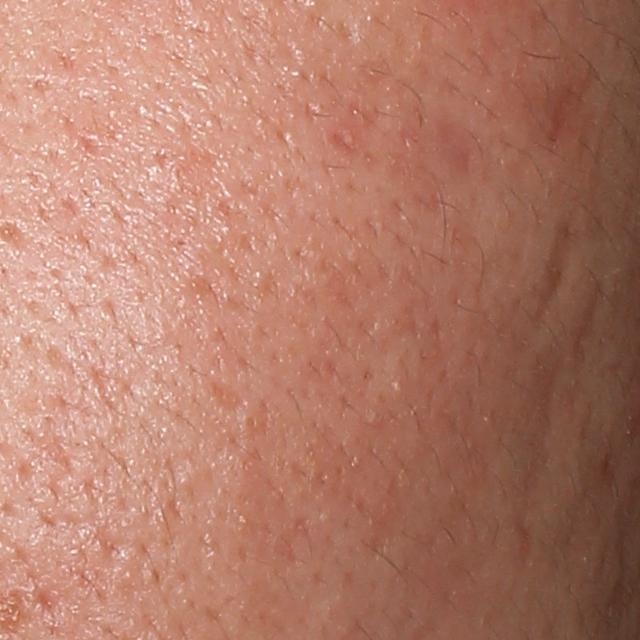atrophic_scar: (534, 218, 580, 324), (201, 374, 247, 417), (34, 585, 64, 619)
